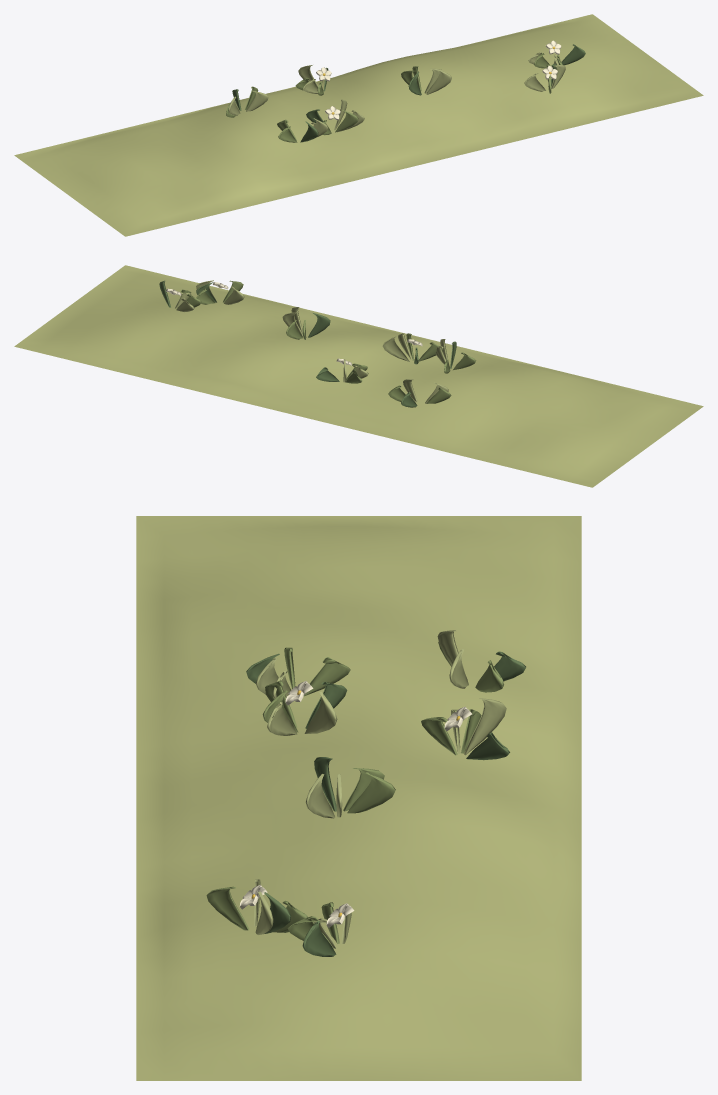
Rendered from garden3d_grass_patch.glb.
3 views of the same model, one above another, from view 1: azimuth 30°, elevation 25°; view 2: azimuth 150°, elevation 25°; view 3: azimuth 270°, elevation 25° (orthographic). The views are drawn at different scales.
Visible parts, largest first — view 1: Terrain / rounded meadow mound, Plants / curved grass blades (×3), Meadow / small daisies / sculpted petals; view 2: Terrain / rounded meadow mound, Plants / curved grass blades (×3); view 3: Terrain / rounded meadow mound, Plants / curved grass blades (×3), Meadow / small daisies / sculpted petals.
Boxes of the visible parts, x1=… form: Terrain / rounded meadow mound: x1=14, y1=14, x2=703, y2=236; Plants / curved grass blades (×3): x1=226, y1=44, x2=585, y2=142; Meadow / small daisies / sculpted petals: x1=316, y1=40, x2=561, y2=120; Terrain / rounded meadow mound: x1=14, y1=265, x2=703, y2=487; Plants / curved grass blades (×3): x1=159, y1=280, x2=475, y2=407; Terrain / rounded meadow mound: x1=136, y1=516, x2=581, y2=1080; Plants / curved grass blades (×3): x1=206, y1=630, x2=525, y2=956; Meadow / small daisies / sculpted petals: x1=239, y1=681, x2=471, y2=927.
Bounding box in the file's own units: 12 × 1.03 × 4.
